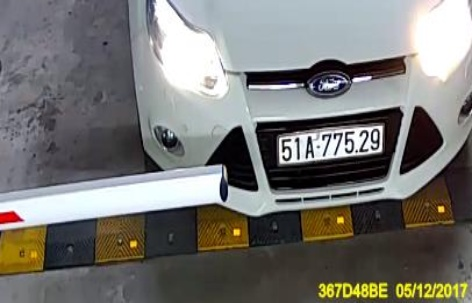plate: (271, 122, 386, 168)
